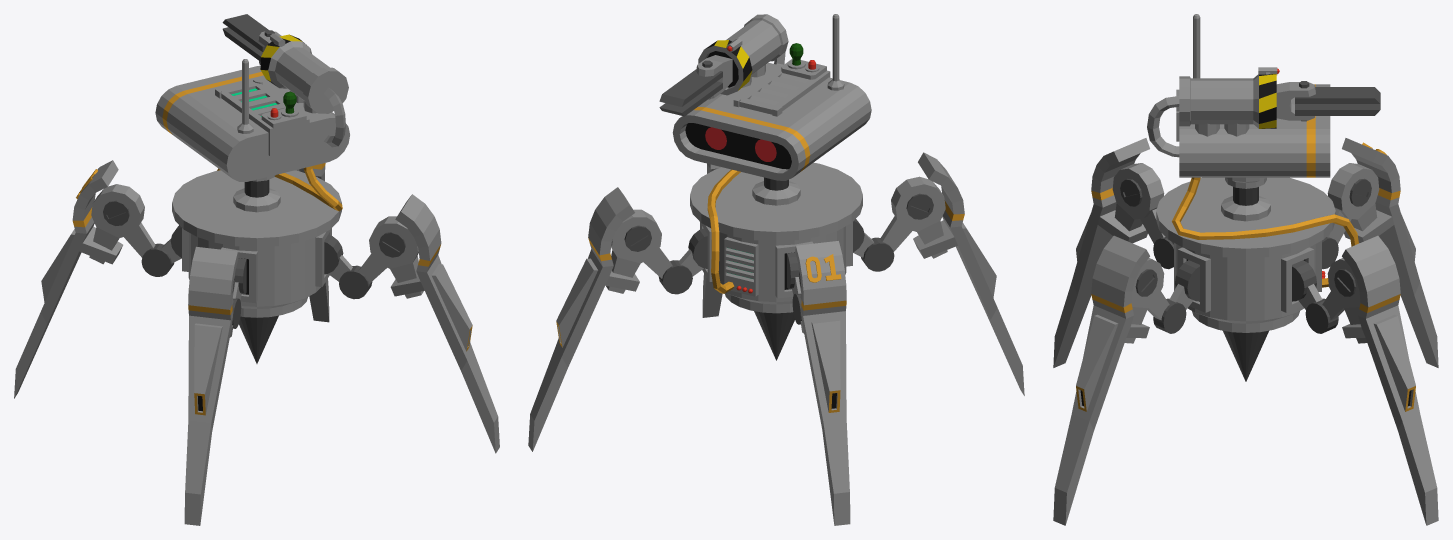
The model's file is QLSG Robot Enemy.fbx.
3 views of the same model, side by side, from view 1: azimuth 30°, elevation 25°; view 2: azimuth 150°, elevation 25°; view 3: azimuth 270°, elevation 25° (orthographic). The views are drawn at different scales.
Visible parts, largest first — view 1: Robot1_Body, Robot1_Head; view 2: Robot1_Body, Robot1_Head; view 3: Robot1_Body, Robot1_Head.
Part boxes in pixels (<box>): Robot1_Body: <box>14,160,499,525</box>; Robot1_Head: <box>155,14,349,212</box>; Robot1_Body: <box>528,152,1024,525</box>; Robot1_Head: <box>659,14,871,205</box>; Robot1_Body: <box>1053,138,1438,525</box>; Robot1_Head: <box>1147,14,1380,221</box>.
Bounding box in the file's own units: 511 × 603 × 511.
